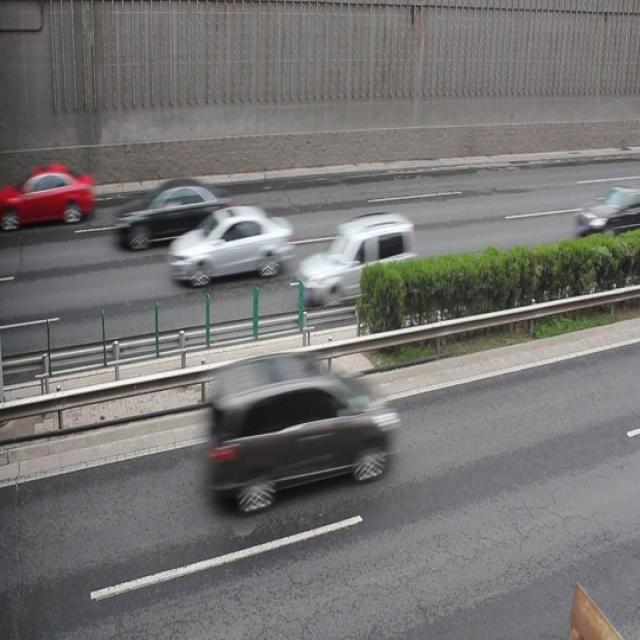car: (296, 211, 417, 308), (167, 202, 292, 284), (112, 176, 231, 249), (0, 161, 94, 227), (573, 184, 640, 252)
truck: (207, 352, 392, 508)
